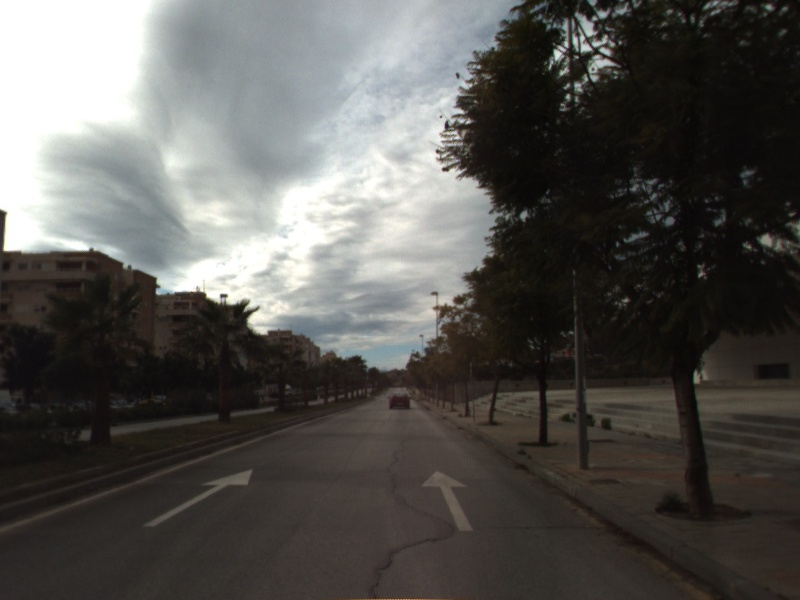STRAIGHT: (140, 467, 255, 529), (419, 468, 476, 533)
